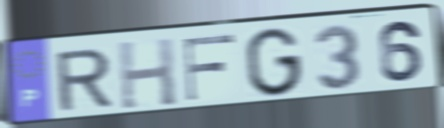3: (312, 20, 361, 93)
6: (376, 18, 425, 85)
F: (181, 32, 237, 104)
G: (245, 25, 303, 99)
H: (116, 35, 179, 112)
R: (52, 46, 115, 114)
